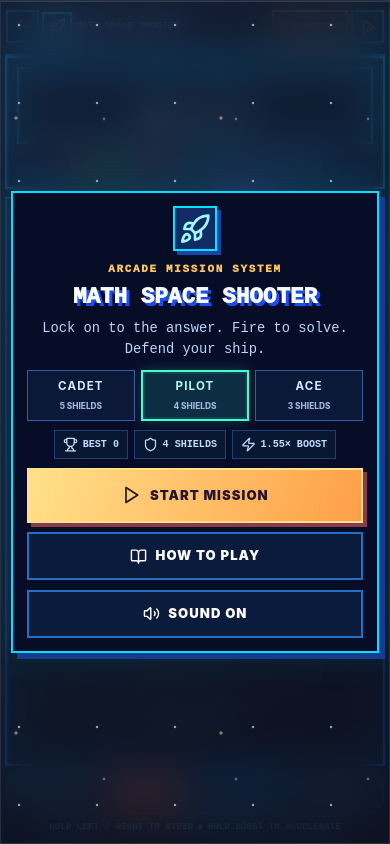
Test case: Math Space Shooter mission › keeps simultaneous pointer controls independent across pointer-up, cancel and capture loss
Later steps or results of the test are not shown.
Click the button with test id "space-start-mission". click: {"x": 195, "y": 495}
box: [27,468,363,523]
Wait 2750 ms
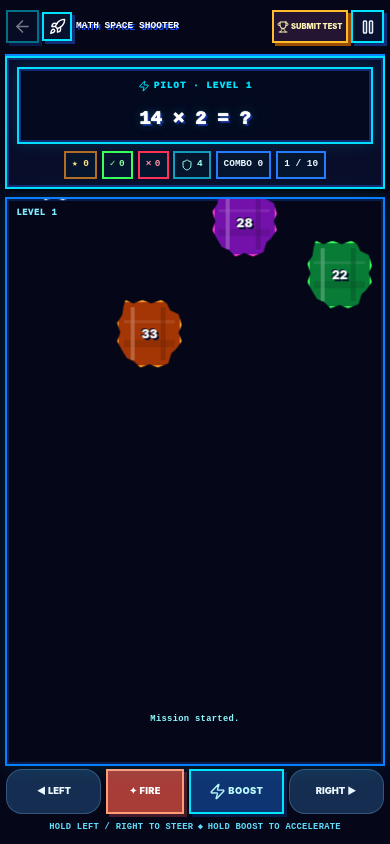
Press the mouse on the button with test id "space-control-left" at {"x": 54, "y": 791}, box [6,769,102,814]
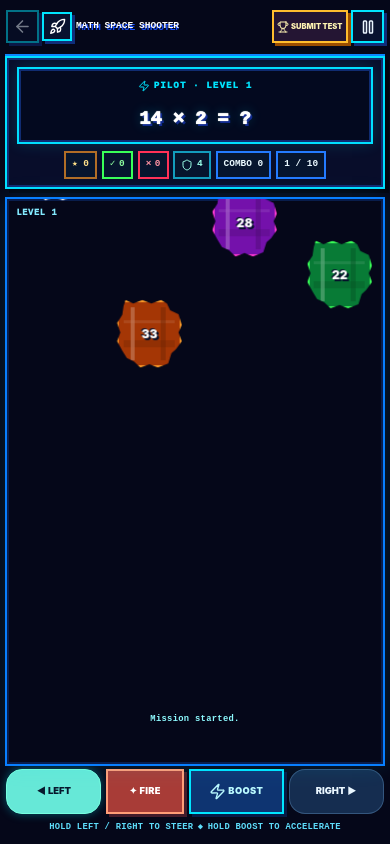
Press the mouse on the button with test id "space-control-right" at {"x": 336, "y": 791}, box [288,769,384,814]
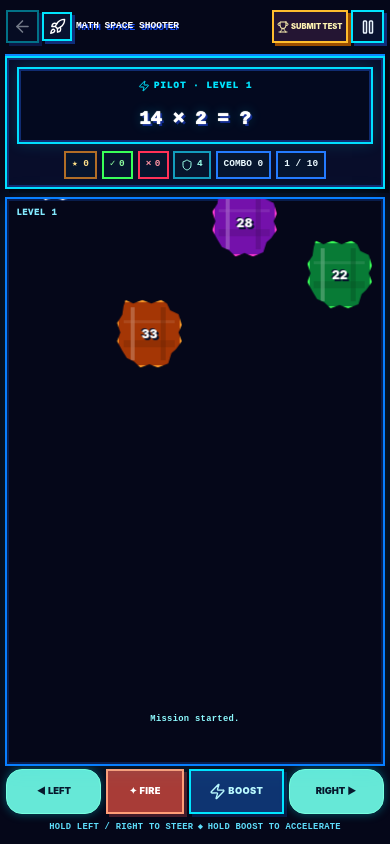
Press the mouse on the button with test id "space-control-boost" at {"x": 236, "y": 791}, box [189,769,284,814]
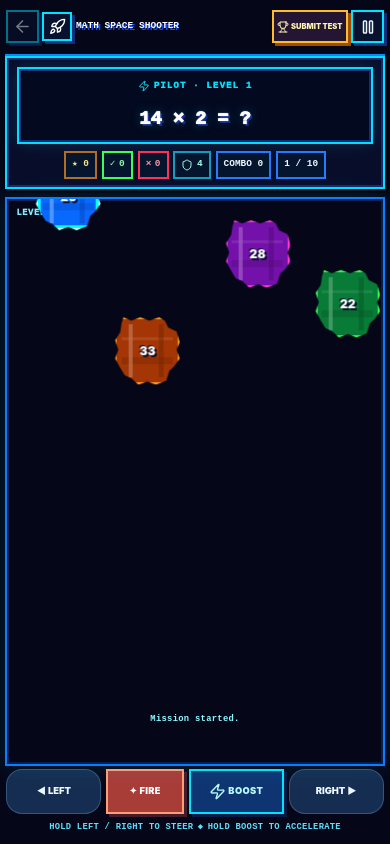
Expected: the button with test id "space-control-left" is not pressed, [6,769,102,814]
Expected: the button with test id "space-control-right" is not pressed, [288,769,384,814]
